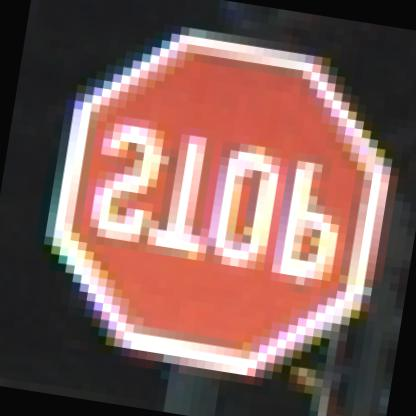stop: (17, 0, 415, 415)
